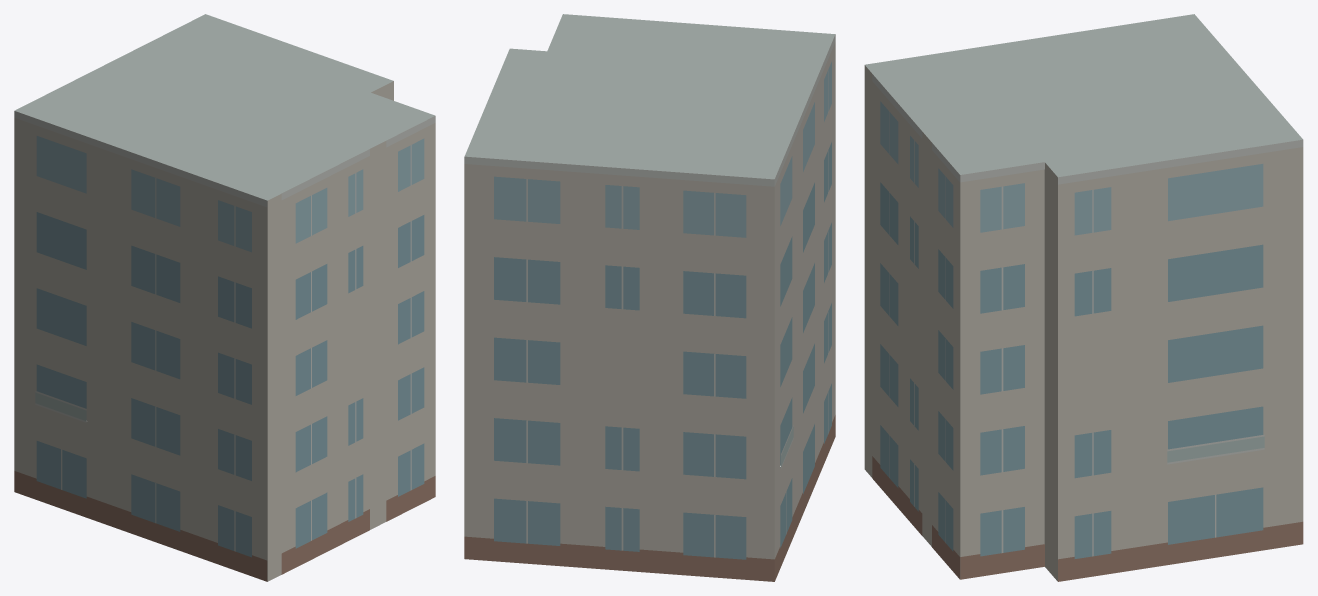
The model's file is survey-upis-32842445.glb.
3 views of the same model, side by side, from view 1: azimuth 30°, elevation 25°; view 2: azimuth 150°, elevation 25°; view 3: azimuth 270°, elevation 25° (orthographic). The views are drawn at different scales.
Parts seen in each view (by area): view 1: survey-upis-32842445.tmp; view 2: survey-upis-32842445.tmp; view 3: survey-upis-32842445.tmp.
Part boxes in pixels (box(x1,y1,x2,y2)): survey-upis-32842445.tmp: box(14, 14, 435, 581); survey-upis-32842445.tmp: box(464, 14, 835, 581); survey-upis-32842445.tmp: box(864, 14, 1303, 581).
Bounding box in the file's own units: 11.61 × 13.4 × 13.18.
